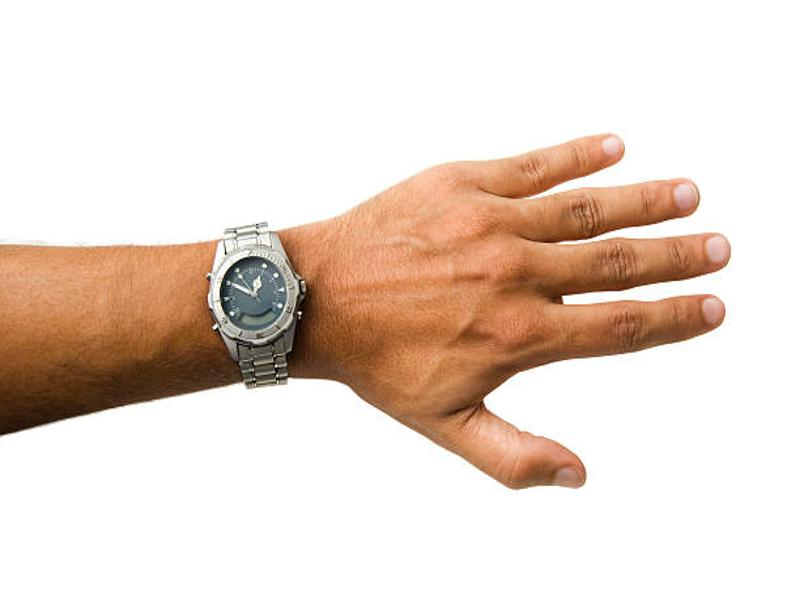watch: (205, 219, 305, 391)
